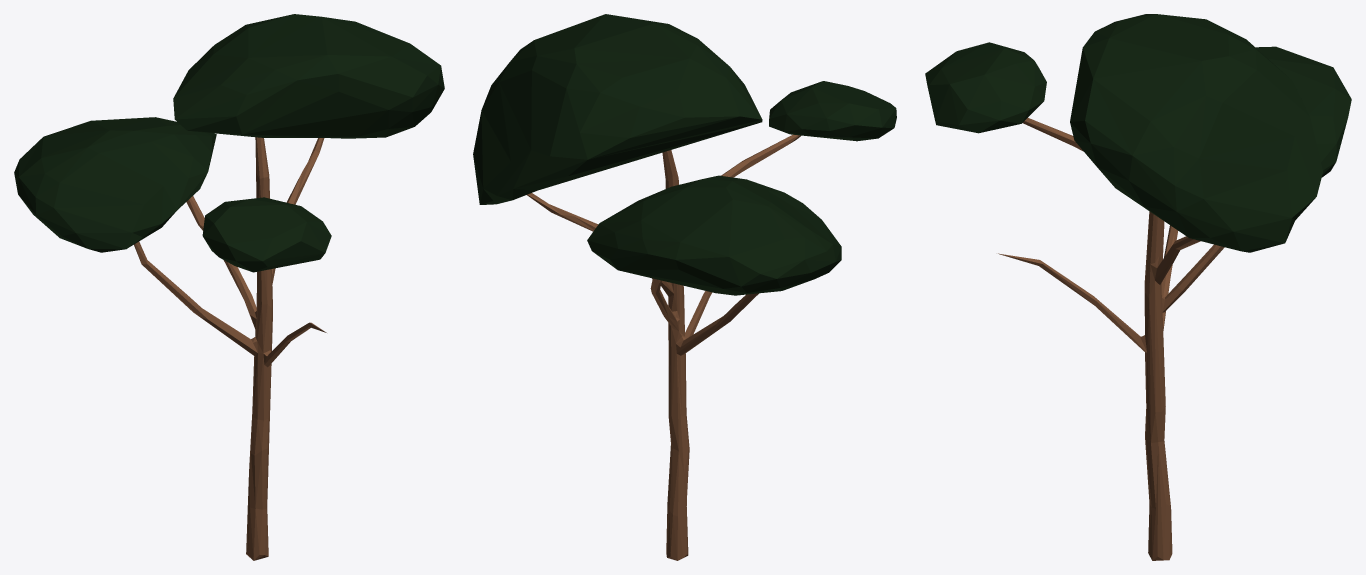
The model's file is SM_tree_small_01.fbx.
The picture shows the model from 3 angles, left to right: view 1: azimuth 30°, elevation 25°; view 2: azimuth 150°, elevation 25°; view 3: azimuth 270°, elevation 25°; orthographic projection. The views are drawn at different scales.
Parts seen in each view (by area): view 1: Object010; view 2: Object010; view 3: Object010.
Boxes of the visible parts, left/top/right/bottom form: Object010: left=14, top=14, right=444, bottom=560; Object010: left=473, top=14, right=896, bottom=560; Object010: left=925, top=14, right=1351, bottom=560.
Bounding box in the file's own units: 148 × 136 × 192.
